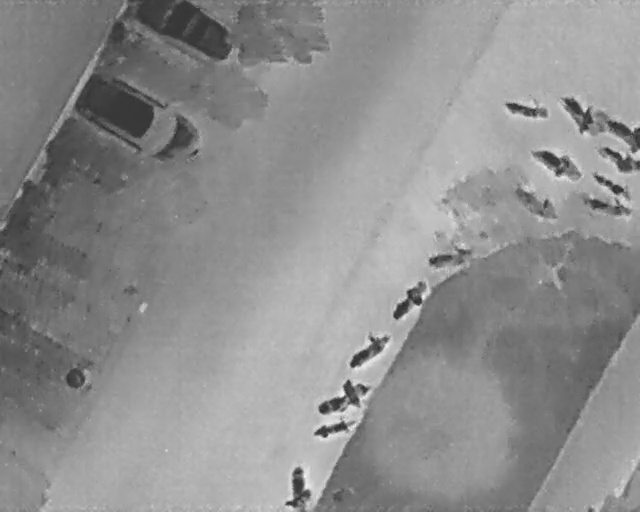Bicycle: (525, 133, 590, 189), (310, 370, 377, 423), (384, 273, 436, 329), (340, 323, 396, 374), (553, 86, 604, 139), (509, 179, 564, 225), (580, 188, 634, 223), (310, 412, 359, 444), (588, 166, 630, 201), (425, 241, 474, 271), (284, 464, 313, 510), (603, 119, 639, 155), (503, 96, 552, 121), (599, 145, 639, 174)
Car: (67, 63, 210, 177), (133, 0, 236, 64)
